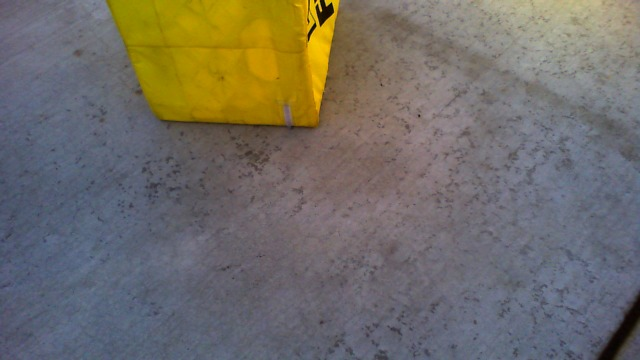cube: (101, 1, 345, 130)
